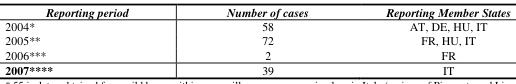table: (4, 4, 510, 77)
table column: (4, 4, 176, 77), (176, 4, 346, 77), (346, 4, 510, 77)
table column header: (4, 4, 510, 18)
table row: (4, 61, 510, 77), (4, 46, 510, 61), (4, 4, 510, 18), (4, 18, 510, 32), (4, 32, 510, 46)
